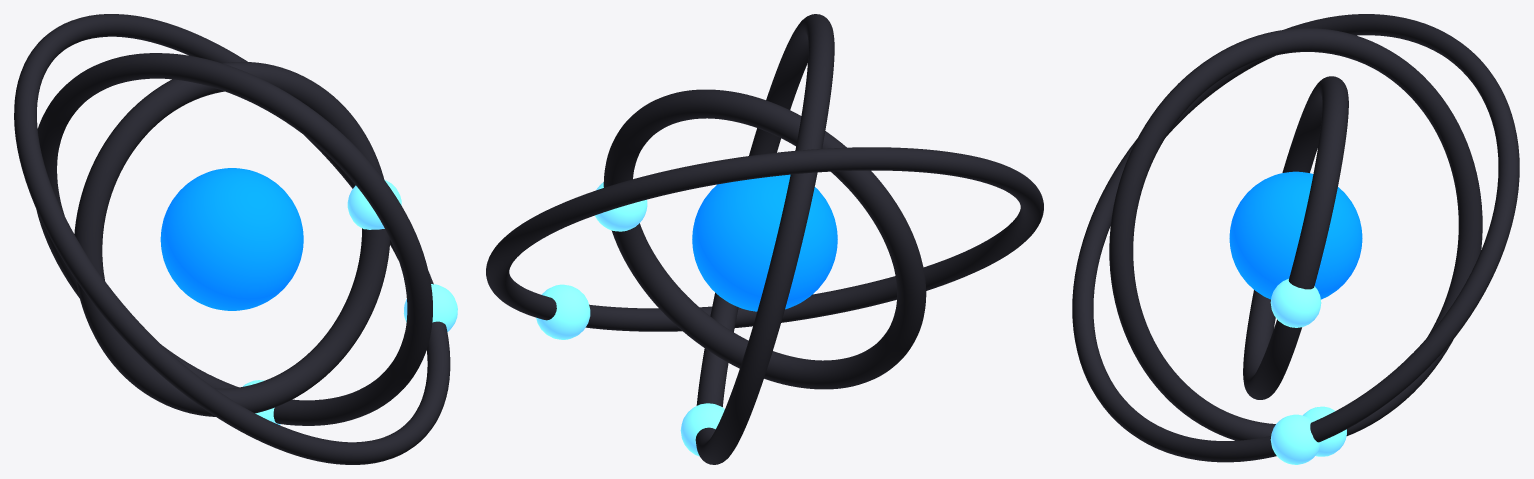
Rendered from artefact.glb.
3 views of the same model, side by side, from view 1: azimuth 30°, elevation 25°; view 2: azimuth 150°, elevation 25°; view 3: azimuth 270°, elevation 25° (orthographic). The views are drawn at different scales.
Visible parts, largest first — view 1: Anneau_C, Anneau_B, Anneau_A, Noyau, Perle_A, Perle_C; view 2: Anneau_C, Anneau_A, Anneau_B, Noyau, Perle_C, Perle_B, Perle_A; view 3: Anneau_B, Anneau_C, Anneau_A, Noyau, Perle_C, Perle_A, Perle_B.
Part boxes in pixels (left/top/right/bottom): Anneau_C: left=14, top=14, right=450, bottom=464; Anneau_B: left=36, top=53, right=432, bottom=425; Anneau_A: left=74, top=61, right=390, bottom=416; Noyau: left=160, top=168, right=303, bottom=310; Perle_A: left=347, top=179, right=401, bottom=229; Perle_C: left=403, top=284, right=457, bottom=331; Anneau_C: left=486, top=147, right=1043, bottom=331; Anneau_A: left=603, top=89, right=926, bottom=389; Anneau_B: left=695, top=14, right=834, bottom=464; Noyau: left=692, top=174, right=837, bottom=311; Perle_C: left=536, top=284, right=590, bottom=339; Perle_B: left=680, top=403, right=724, bottom=456; Perle_A: left=595, top=182, right=647, bottom=231; Anneau_B: left=1109, top=28, right=1482, bottom=440; Anneau_C: left=1072, top=14, right=1519, bottom=462; Anneau_A: left=1243, top=76, right=1348, bottom=399; Noyau: left=1229, top=171, right=1362, bottom=299; Perle_C: left=1270, top=414, right=1320, bottom=464; Perle_A: left=1270, top=278, right=1321, bottom=327; Perle_B: left=1303, top=406, right=1346, bottom=456.
Size of the model in its own units: 3.54 by 3.18 by 3.36.
